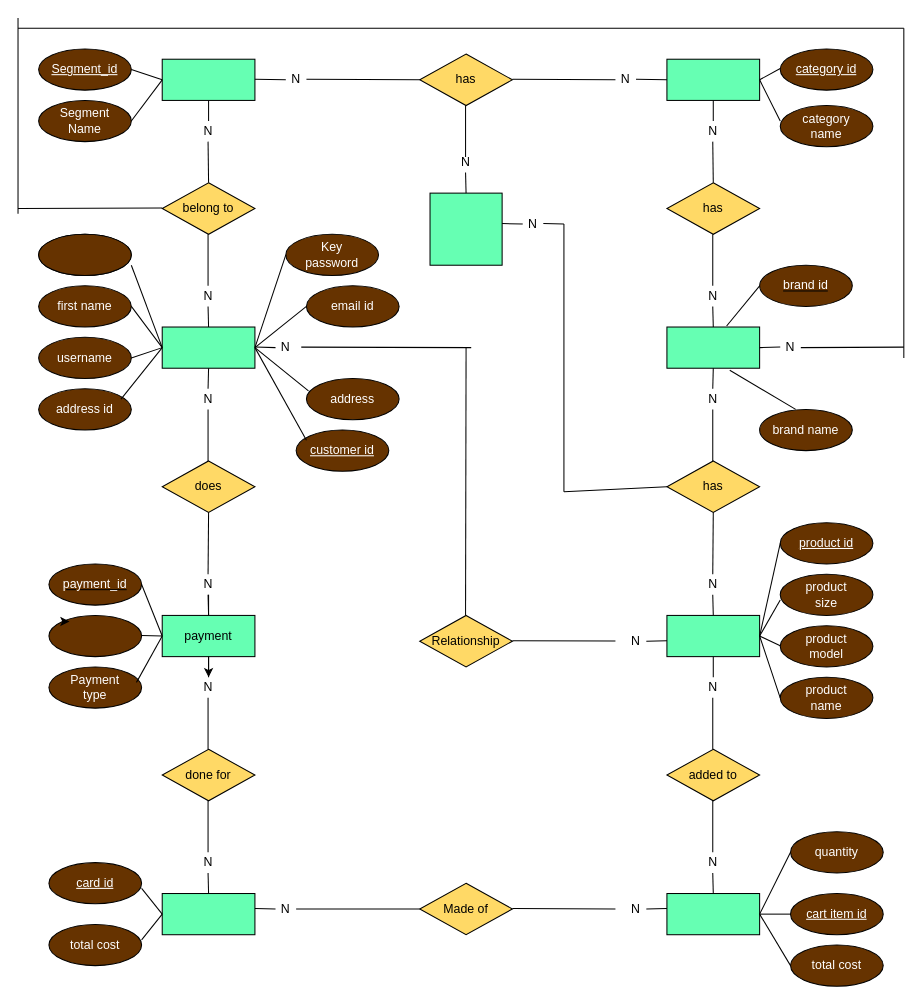
This 923x1004 diagram has some shape labels left out. The centre of each missing label's shape, as x and y in pixels:
amount: (x=95, y=635)
Brands: (x=713, y=347)
cart: (x=208, y=913)
cart item: (x=713, y=913)
category: (x=713, y=79)
customer: (x=208, y=347)
last name: (x=84, y=254)
Online shopping portal: (x=465, y=228)
products: (x=713, y=635)
Segment: (x=208, y=79)
